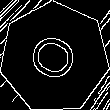O_SE: (24, 28, 86, 87)
